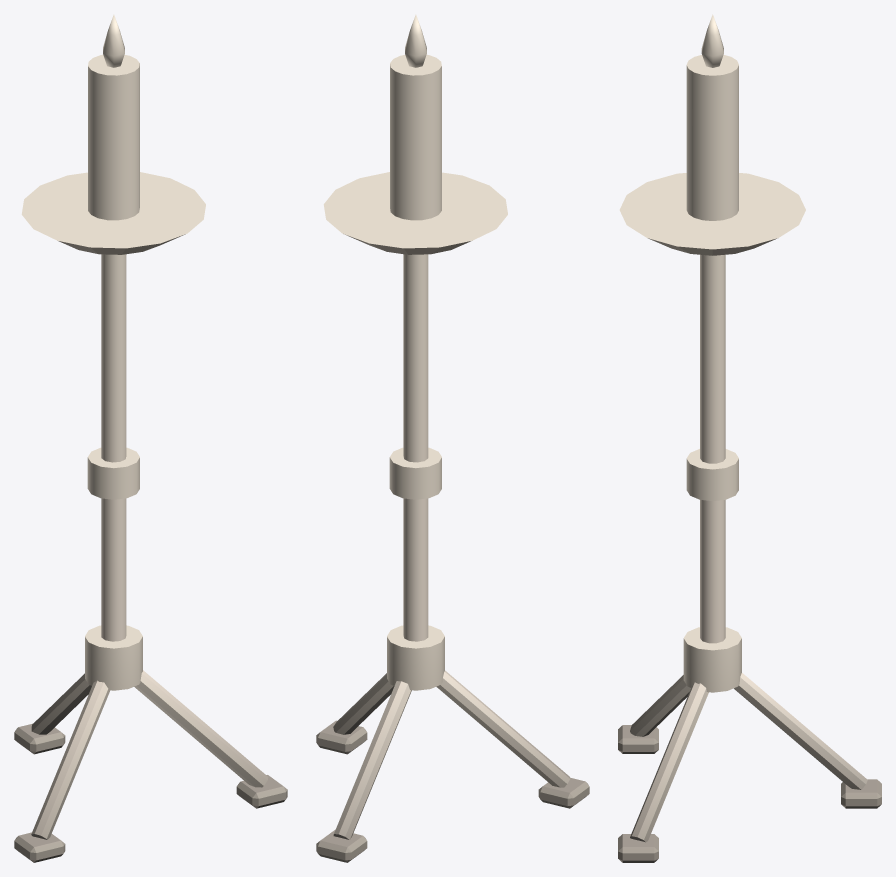
File: SM_VKI_Prop_CandleStand_Pricket.fbx
3 views of the same model, side by side, from view 1: azimuth 30°, elevation 25°; view 2: azimuth 150°, elevation 25°; view 3: azimuth 270°, elevation 25° (orthographic).
Parts seen in each view (by area): view 1: SM_VKI_Prop_CandleStand_Pricket.001; view 2: SM_VKI_Prop_CandleStand_Pricket.001; view 3: SM_VKI_Prop_CandleStand_Pricket.001.
Part boxes in pixels (x1,y1,x2,y2): SM_VKI_Prop_CandleStand_Pricket.001: [14, 14, 287, 862]; SM_VKI_Prop_CandleStand_Pricket.001: [316, 14, 589, 862]; SM_VKI_Prop_CandleStand_Pricket.001: [618, 14, 881, 862].
Bounding box in the file's own units: 0.5117 × 1.49 × 0.4525.
